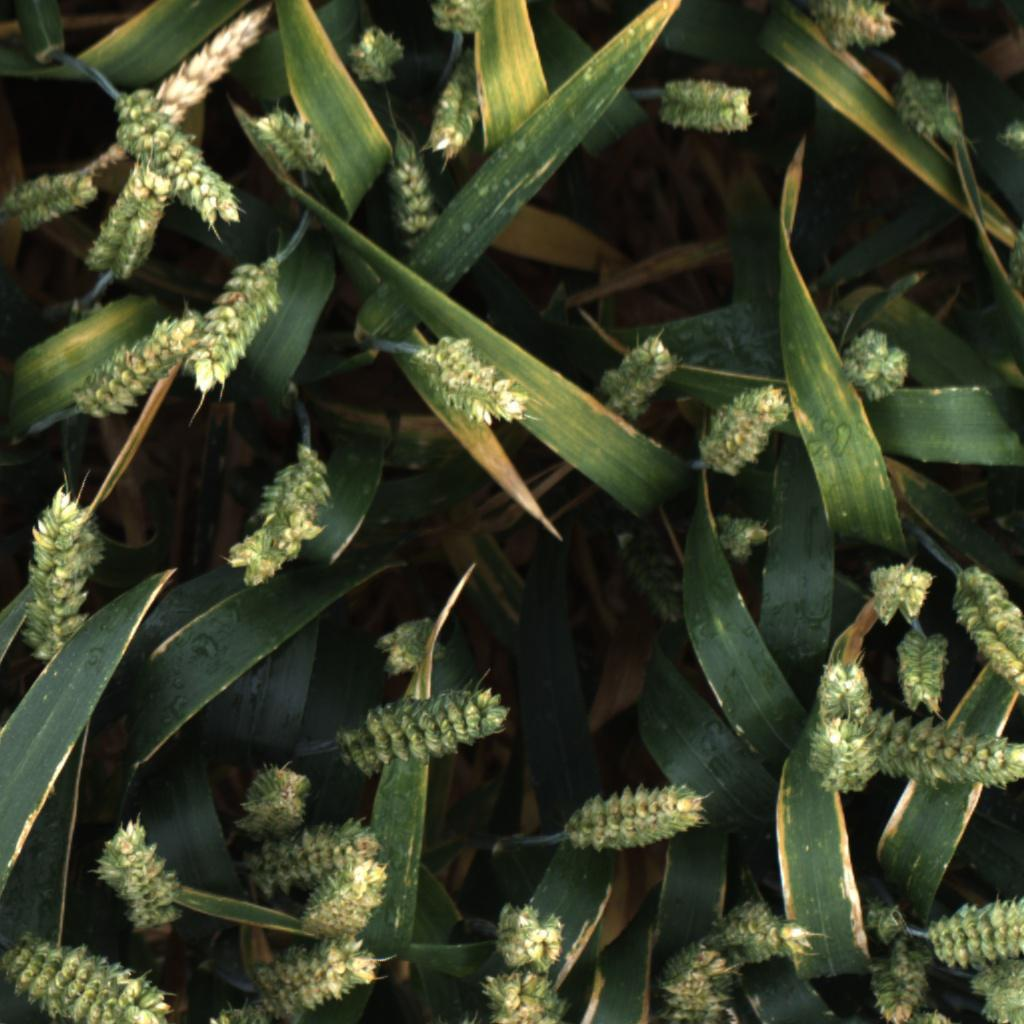0-0: (75, 0, 280, 188), (221, 438, 342, 592), (330, 682, 511, 783), (106, 79, 222, 235), (17, 480, 100, 669), (0, 938, 175, 1024), (855, 706, 1024, 793), (188, 253, 285, 398), (235, 815, 387, 907), (400, 330, 532, 431), (75, 306, 194, 417), (79, 160, 175, 287), (564, 775, 708, 856), (103, 815, 187, 937), (694, 378, 792, 481), (289, 853, 396, 945), (259, 945, 381, 1023), (950, 567, 1024, 695), (927, 882, 1024, 973), (377, 130, 450, 248), (245, 929, 363, 1002), (705, 896, 820, 968), (657, 931, 745, 1024), (616, 529, 689, 637), (600, 331, 684, 422), (801, 712, 885, 801), (89, 836, 187, 912), (246, 104, 334, 183), (7, 161, 98, 235), (222, 512, 330, 574), (491, 895, 574, 973), (225, 757, 314, 829), (658, 74, 759, 137), (833, 321, 910, 403), (857, 553, 937, 629), (851, 878, 926, 959), (424, 59, 483, 160), (371, 610, 451, 683), (892, 626, 954, 720), (804, 646, 876, 726), (172, 162, 243, 238), (884, 80, 962, 149), (808, 0, 900, 51), (343, 19, 407, 91), (865, 951, 925, 1024), (480, 975, 569, 1024), (713, 505, 777, 561), (204, 992, 287, 1024), (425, 0, 491, 35), (77, 503, 108, 577), (993, 114, 1024, 171), (1004, 217, 1024, 294), (898, 1007, 959, 1024)
